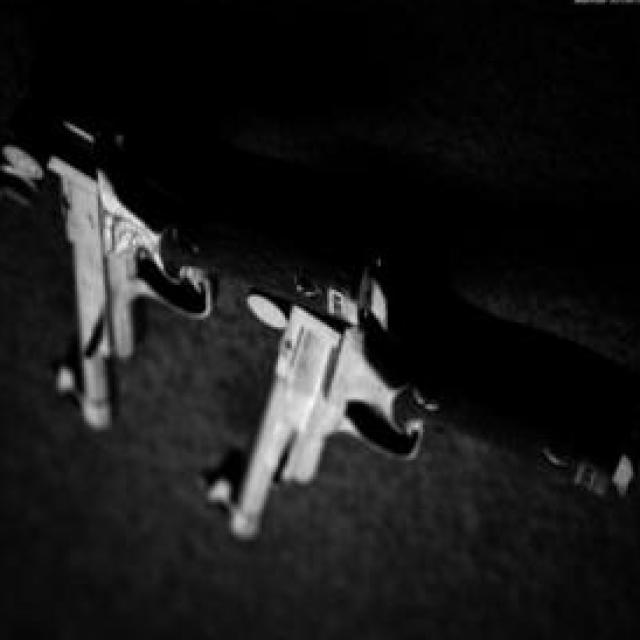pistol: (210, 231, 640, 561), (0, 112, 383, 430)
